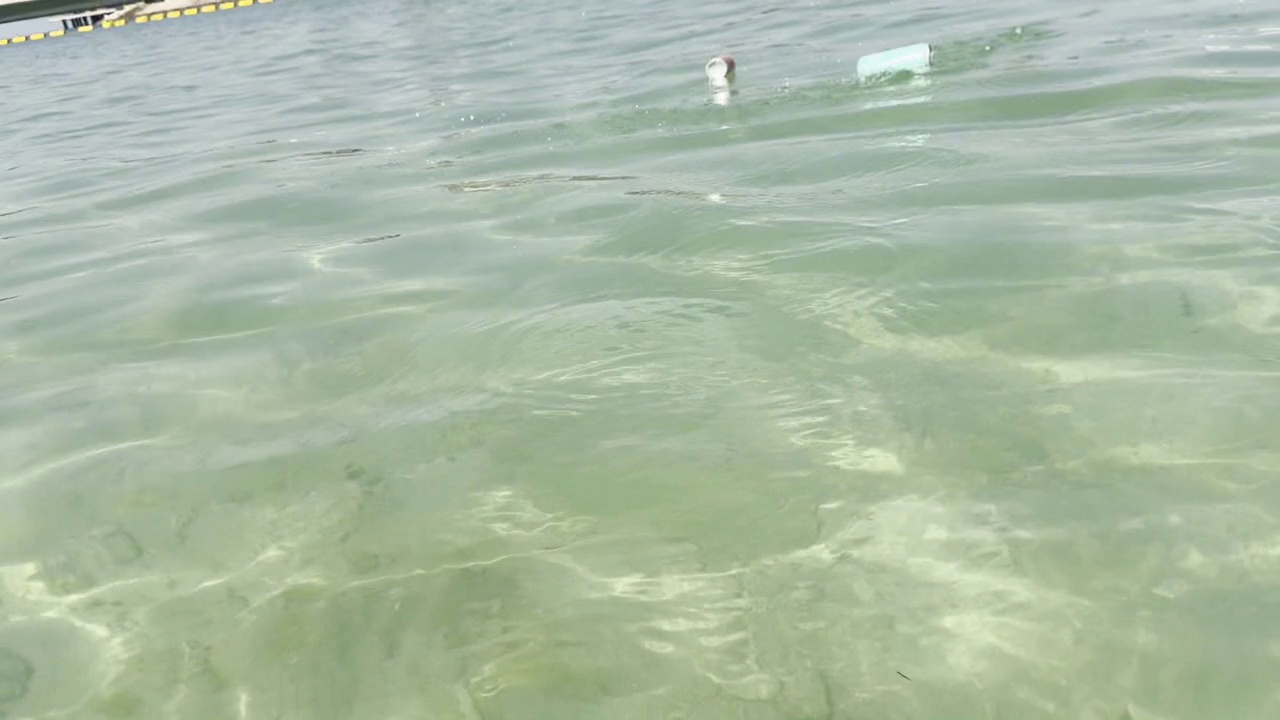debris: (851, 43, 948, 78), (702, 51, 745, 82)
